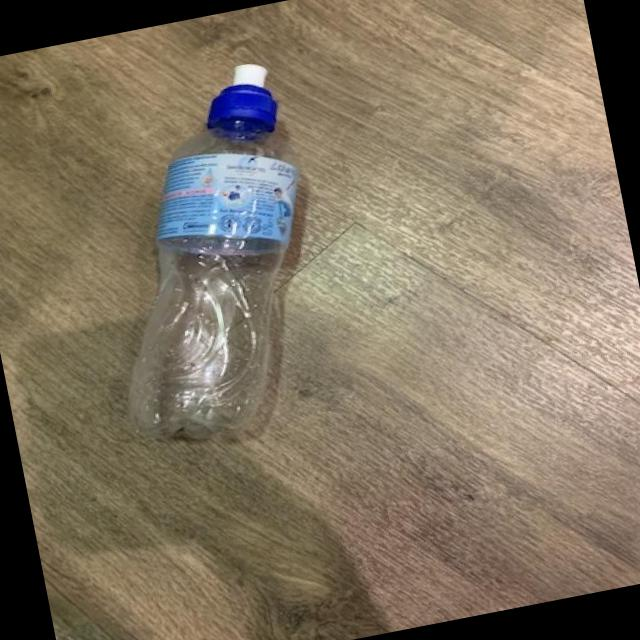plastic_bottle: (67, 58, 346, 454)
